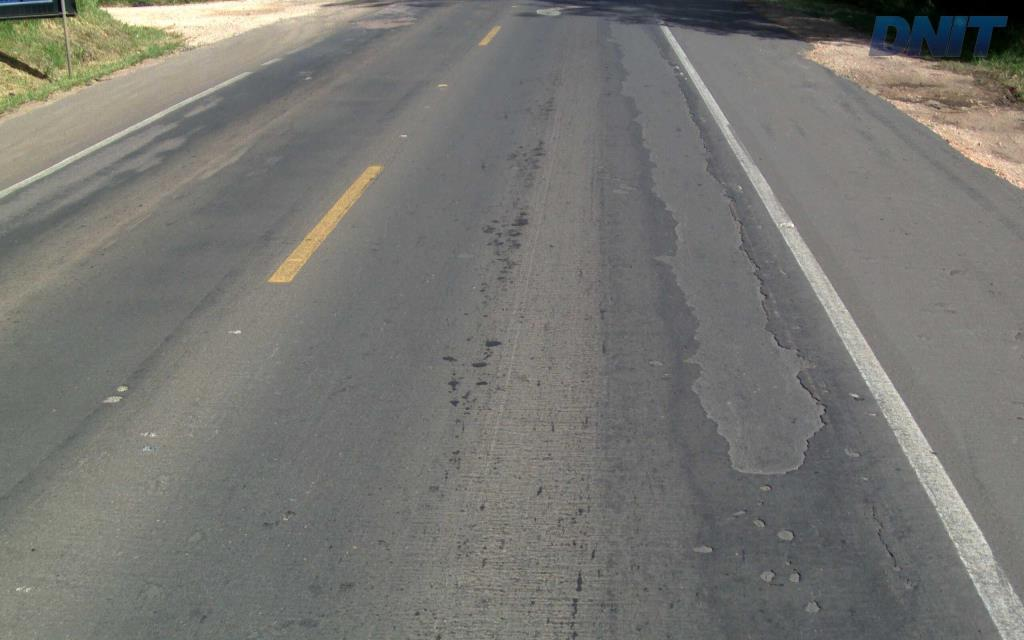pothole: (601, 8, 840, 497), (528, 0, 593, 18), (798, 593, 827, 615), (772, 525, 799, 542), (689, 540, 717, 556), (784, 566, 806, 583), (759, 566, 780, 582), (750, 513, 768, 530), (728, 505, 746, 515)
